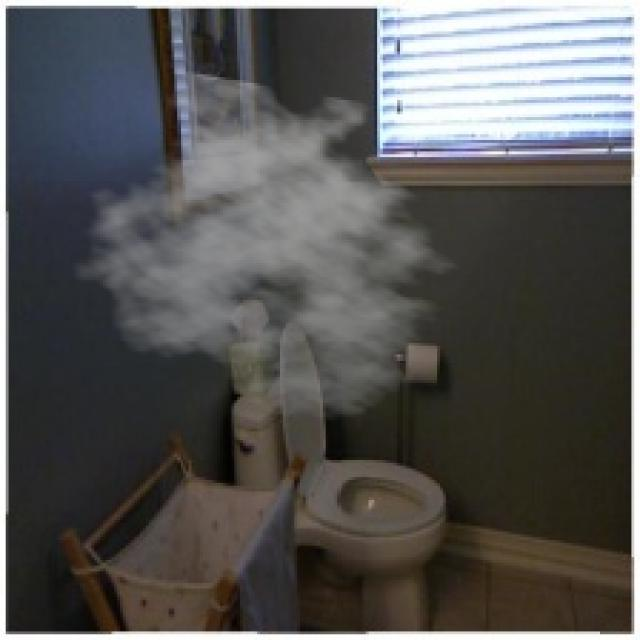smoke: (69, 68, 477, 423)
